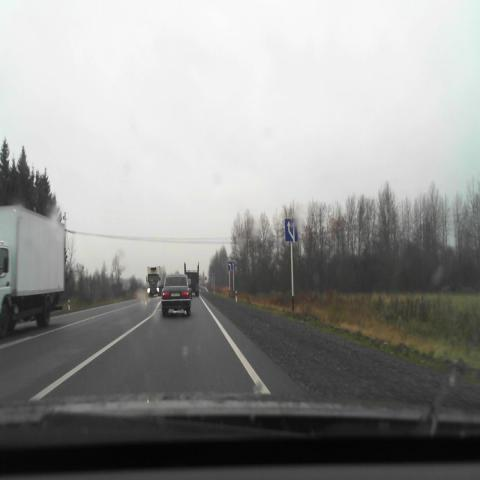5_15_3: (284, 218, 298, 242)
